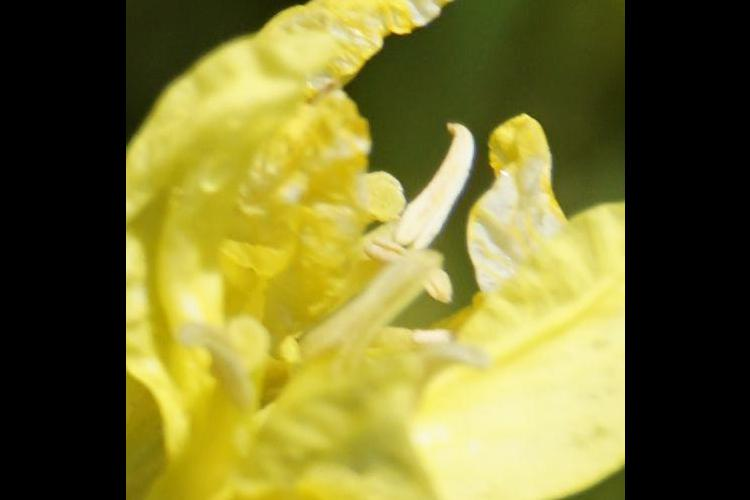yellow: (141, 1, 610, 500)
